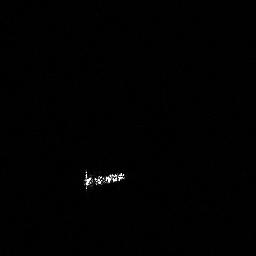ship: (82, 168, 126, 192)
